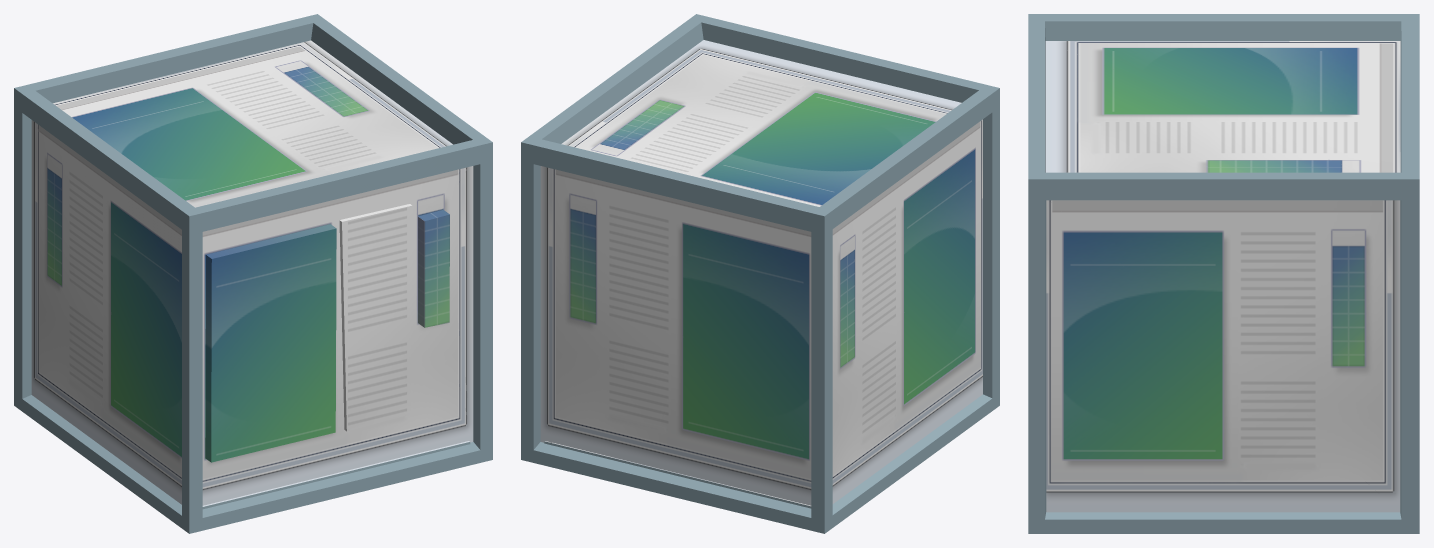
Rendered from exe.glb.
The picture shows the model from 3 angles, left to right: view 1: azimuth 30°, elevation 25°; view 2: azimuth 150°, elevation 25°; view 3: azimuth 270°, elevation 25°; orthographic projection. The views are drawn at different scales.
Visible parts, largest first — view 1: Cube; view 2: Cube; view 3: Cube.
Part boxes in pixels (left/top/right/bottom): Cube: left=14, top=14, right=492, bottom=533; Cube: left=521, top=14, right=999, bottom=533; Cube: left=1028, top=14, right=1419, bottom=533.
Size of the model in its own units: 2 by 2 by 2.
2 materials, 1 textured.
